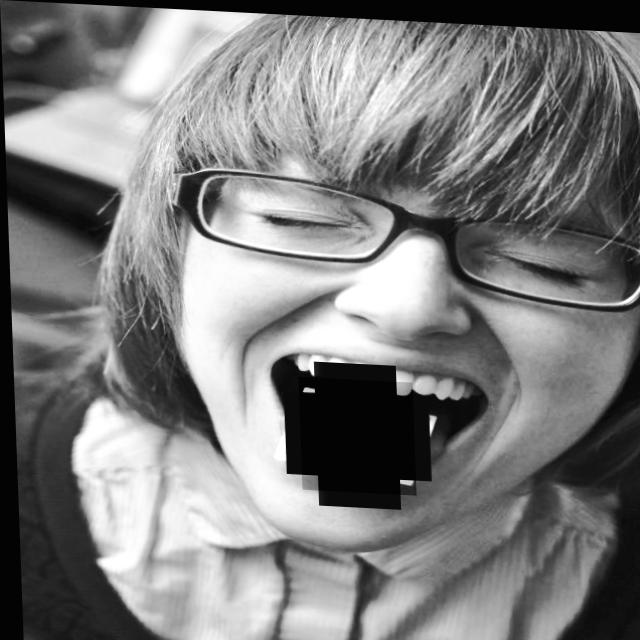qr_code: (296, 374, 413, 491)
